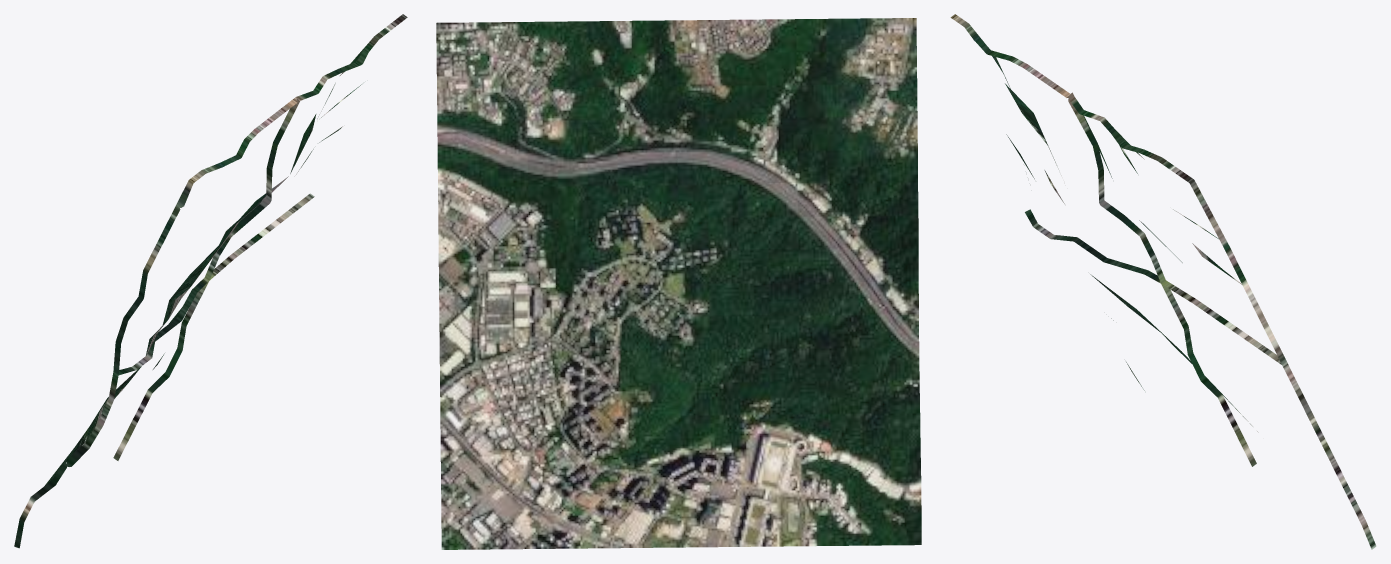
The picture shows the model from 3 angles, left to right: view 1: azimuth 30°, elevation 25°; view 2: azimuth 150°, elevation 25°; view 3: azimuth 270°, elevation 25°; orthographic projection. The views are drawn at different scales.
Bounding box in the file's own units: 2422 × 2267 × 2059.
Materials: 1 (1 with a texture image).
